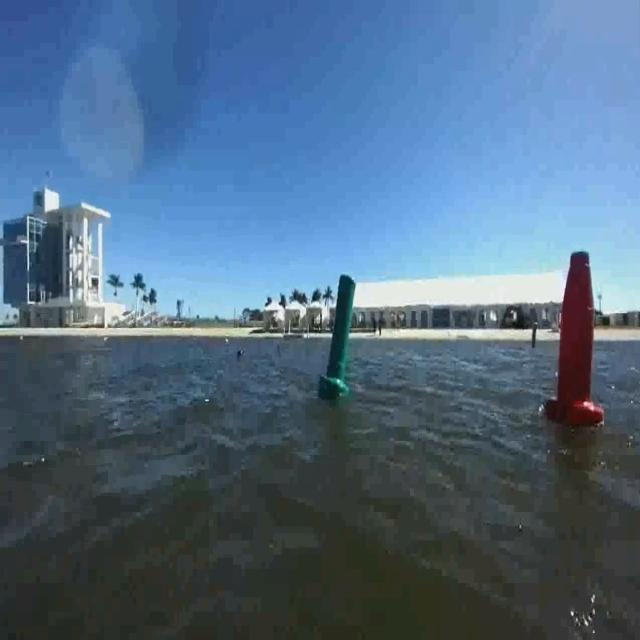green-column-buoy: (321, 272, 357, 397)
red-column-buoy: (545, 247, 604, 428)
